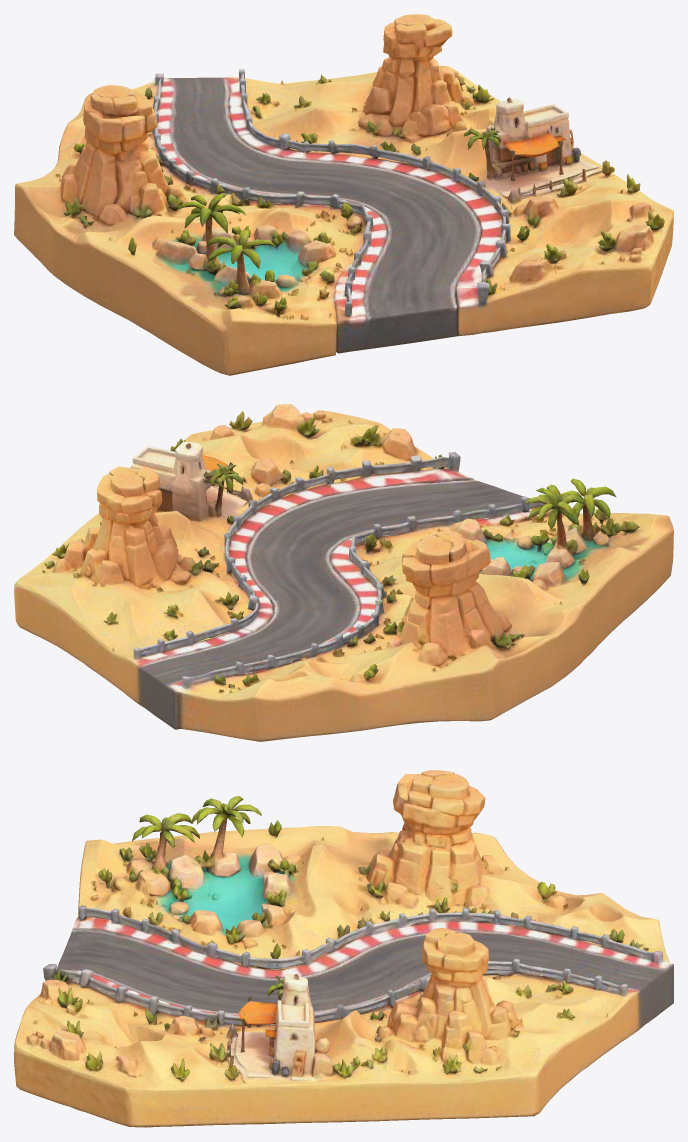
File: desert.glb
The picture shows the model from 3 angles, top to bottom: view 1: azimuth 30°, elevation 25°; view 2: azimuth 150°, elevation 25°; view 3: azimuth 270°, elevation 25°; orthographic projection. The views are drawn at different scales.
Visible parts, largest first — view 1: model; view 2: model; view 3: model.
Boxes of the visible parts, x1=… form: model: x1=14, y1=14, x2=673, y2=375; model: x1=14, y1=404, x2=673, y2=741; model: x1=14, y1=770, x2=673, y2=1127.
Bounding box in the file's own units: 31.98 × 8.88 × 36.
1 material, 1 textured.
